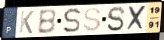B: (36, 8, 58, 35)
K: (18, 10, 36, 35)
S: (106, 5, 127, 32), (62, 7, 82, 35), (82, 7, 103, 33)
X: (126, 4, 148, 32)
